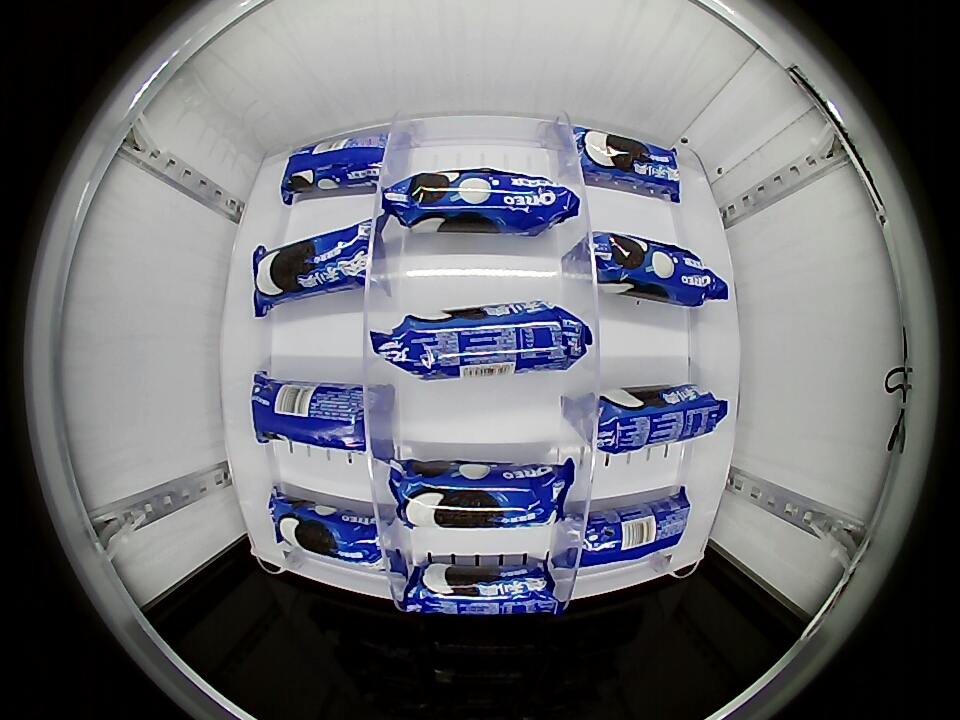aoliao: (372, 300, 591, 380), (253, 217, 390, 318), (382, 166, 575, 233), (394, 460, 567, 533), (584, 231, 729, 307), (268, 485, 395, 571), (575, 384, 728, 454), (569, 486, 690, 567), (575, 127, 682, 208), (402, 565, 561, 617), (252, 380, 360, 451), (280, 132, 388, 202)
